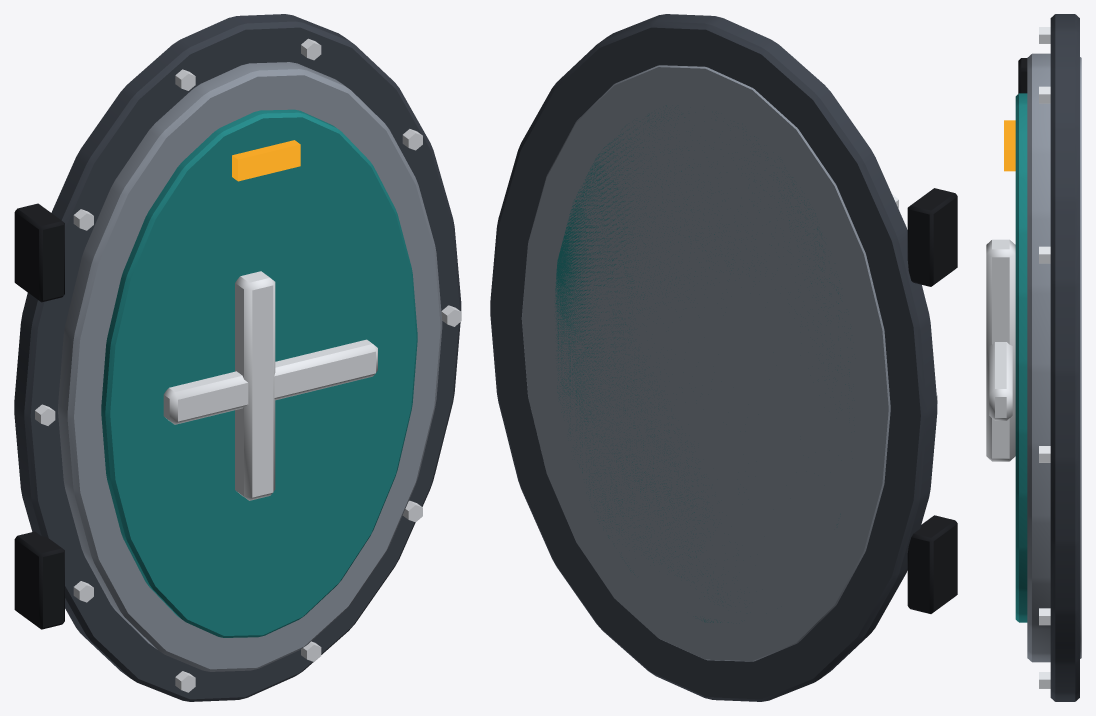
File: hatch_oval_pressure.glb
3 views of the same model, side by side, from view 1: azimuth 30°, elevation 25°; view 2: azimuth 150°, elevation 25°; view 3: azimuth 270°, elevation 25° (orthographic). The views are drawn at different scales.
Visible parts, largest first — view 1: hatch_oval_pressure; view 2: hatch_oval_pressure; view 3: hatch_oval_pressure.
Boxes of the visible parts, x1,y1,x2,y2 form: hatch_oval_pressure: [14, 14, 461, 701]; hatch_oval_pressure: [490, 14, 957, 701]; hatch_oval_pressure: [986, 14, 1081, 701].
Size of the model in its own units: 0.8443 by 1.24 by 0.163.
